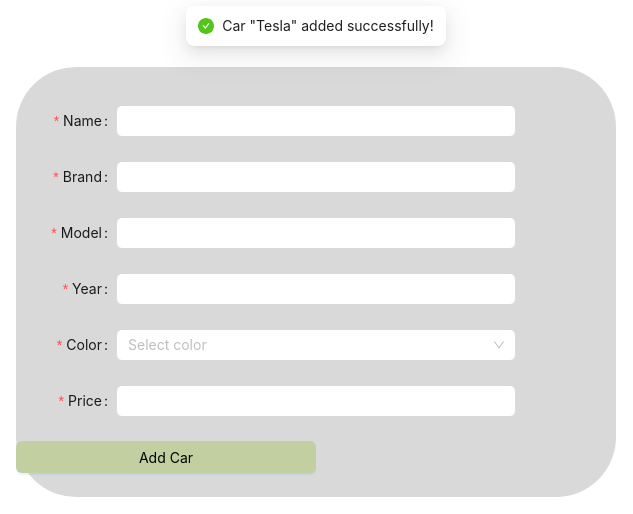
AddPage › shows validation errors when form is not filled out correctly
The width and height of the screenshot is (633, 514).
Click the button "Add Car": (166, 457) [16,441,316,473]
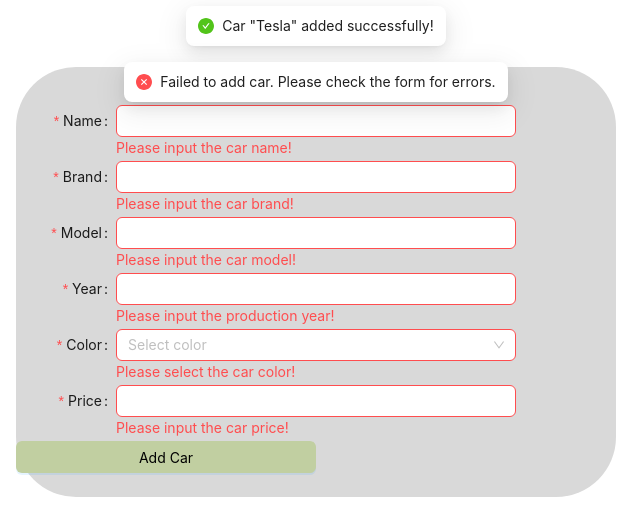
Expected: the text "Please input the car name!" is shown, [116,139,292,156]
Expected: the text "Please input the car brand!" is shown, [116,195,294,212]
Expected: the text "Please input the car model!" is shown, [116,251,296,268]
